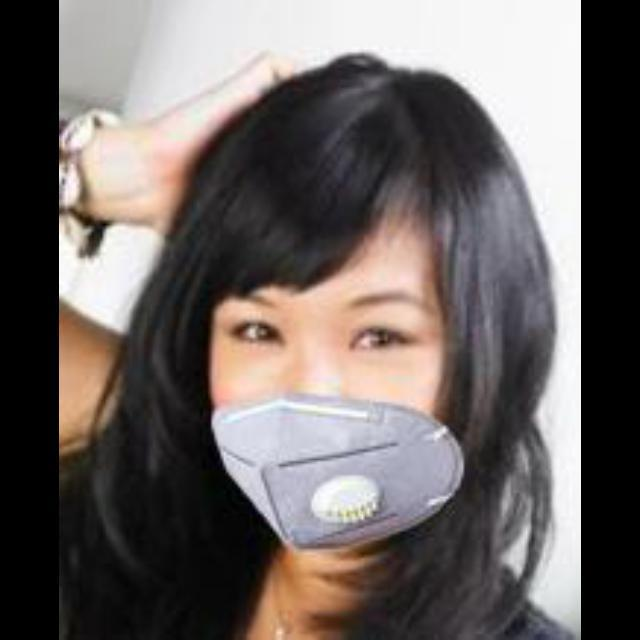suspicion: (175, 132, 521, 590)
